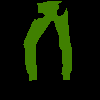jeans: (23, 0, 72, 80)
